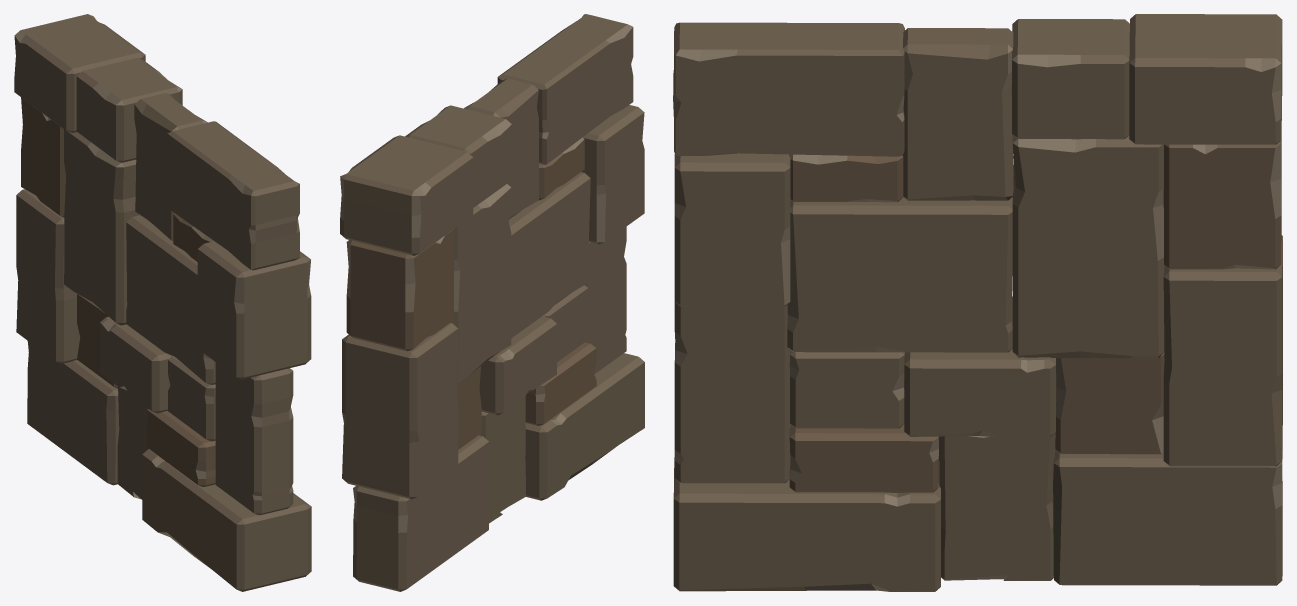
The model's file is crypt_wall_west_3_lev3.glb.
The picture shows the model from 3 angles, left to right: view 1: azimuth 30°, elevation 25°; view 2: azimuth 150°, elevation 25°; view 3: azimuth 270°, elevation 25°; orthographic projection. The views are drawn at different scales.
Visible parts, largest first — view 1: crypt_wall_west_3_lev3; view 2: crypt_wall_west_3_lev3; view 3: crypt_wall_west_3_lev3.
Boxes of the visible parts, left/top/right/bottom form: crypt_wall_west_3_lev3: left=14, top=14, right=311, bottom=591; crypt_wall_west_3_lev3: left=340, top=14, right=644, bottom=591; crypt_wall_west_3_lev3: left=673, top=14, right=1282, bottom=591.
Bounding box in the file's own units: 1.24 × 5.94 × 6.12.
